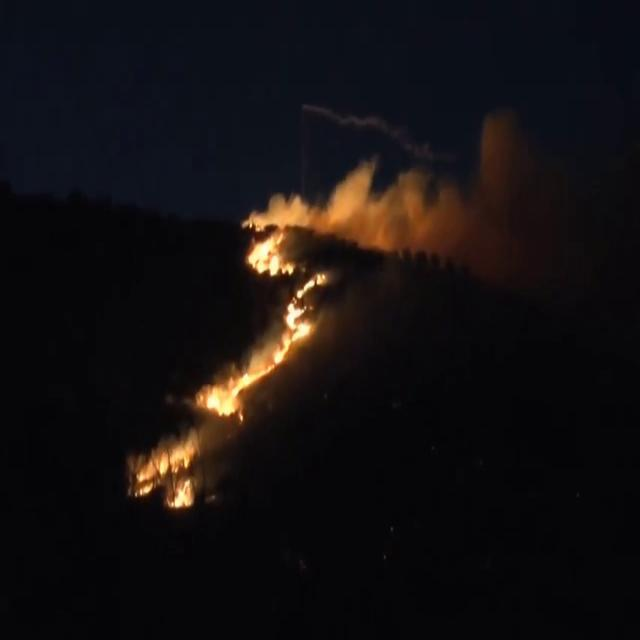Fire: (254, 191, 325, 341), (132, 421, 198, 523), (210, 360, 278, 418)
Smoke: (360, 123, 560, 274)
